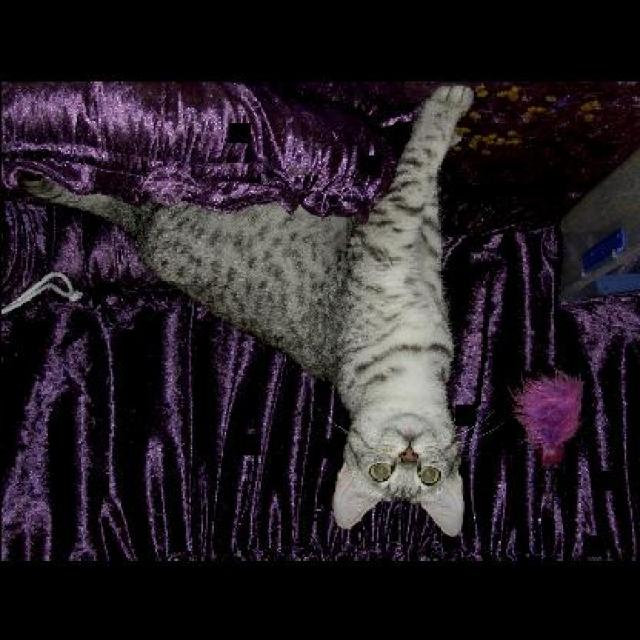unauthorized: (18, 83, 476, 537)
